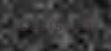eight: (35, 20, 43, 31), (80, 20, 88, 31)
five: (53, 20, 61, 31)
one: (44, 20, 52, 31)
six: (17, 20, 25, 31), (71, 20, 79, 31)
three: (62, 20, 70, 31)
zero: (26, 20, 34, 31)
